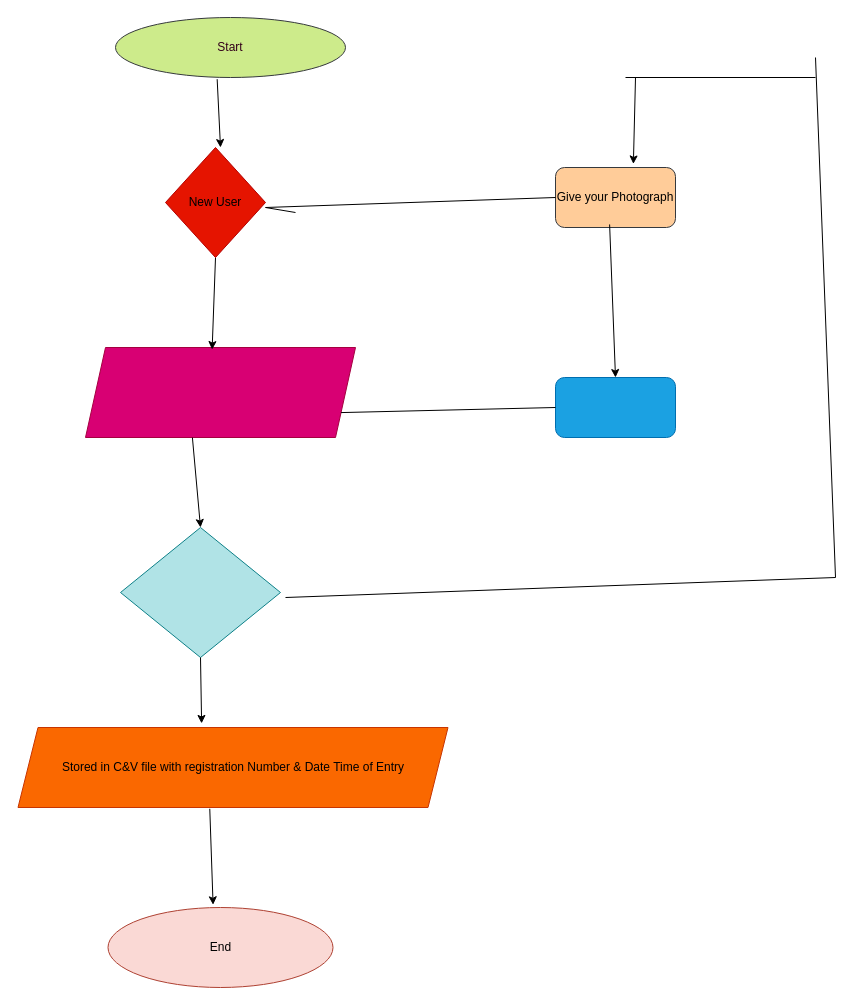
The diagram is 854 pixels wide and 1005 high, and some of its shapes have lost their labels. Here are the shapes that lost their labels. From the top down, the centre of each, then its label:
At (220,392): "Recongnize the face".
At (615,407): "Store the face data in folder on your name".
At (200,592): "Face Recognized".
